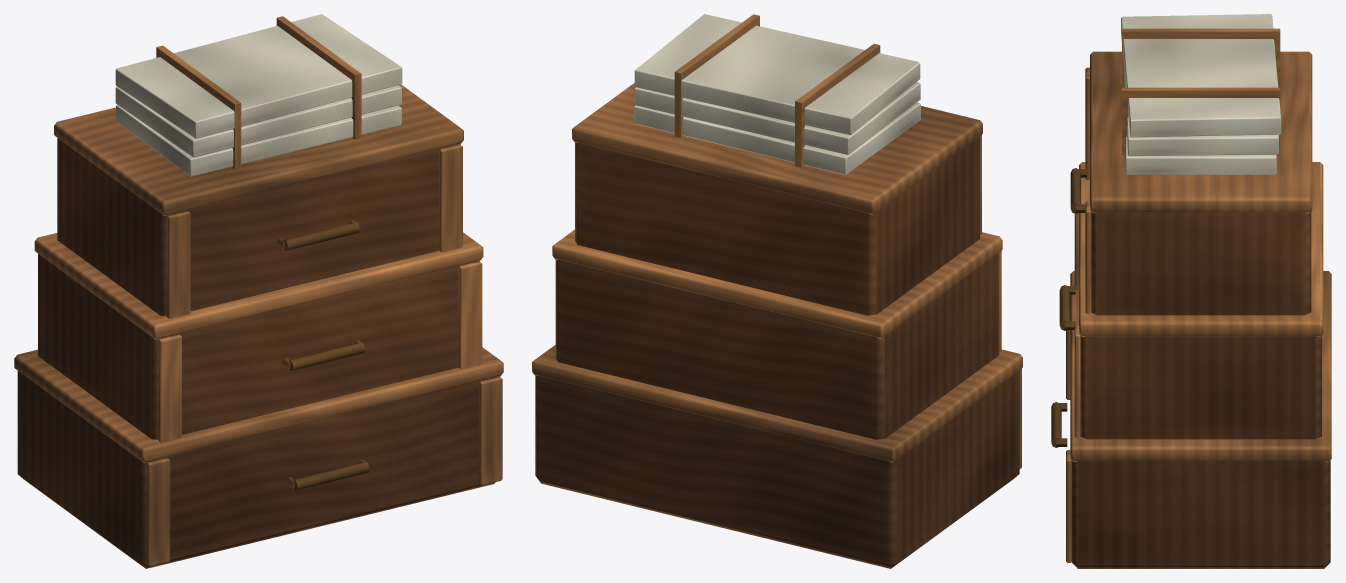
File: Furn_Council_PaperBoxes.fbx
3 views of the same model, side by side, from view 1: azimuth 30°, elevation 25°; view 2: azimuth 150°, elevation 25°; view 3: azimuth 270°, elevation 25° (orthographic).
Parts seen in each view (by area): view 1: Furn_Council_PaperBoxes; view 2: Furn_Council_PaperBoxes; view 3: Furn_Council_PaperBoxes.
Part boxes in pixels (bbox=[...]): Furn_Council_PaperBoxes: bbox=[14, 14, 503, 568]; Furn_Council_PaperBoxes: bbox=[532, 14, 1022, 568]; Furn_Council_PaperBoxes: bbox=[1051, 14, 1331, 568].
Size of the model in its own units: 0.9 by 1 by 0.6.
Materials: 4 (4 with a texture image).
